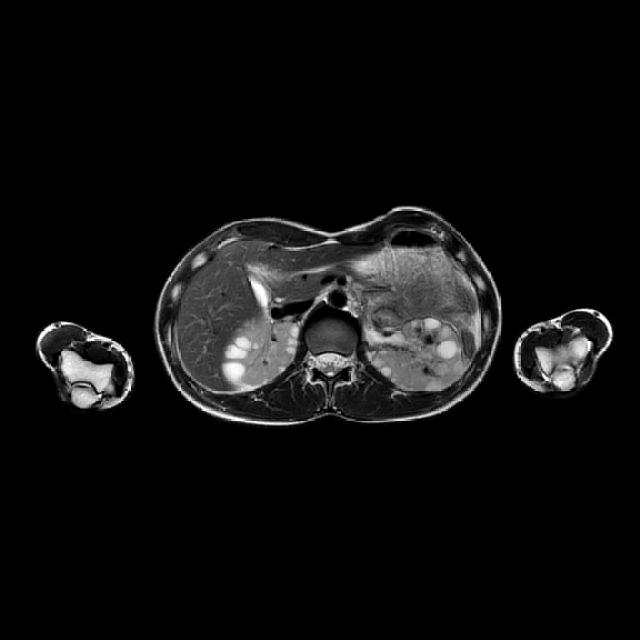sag: (220, 314, 303, 387)
sol: (373, 317, 466, 389)
